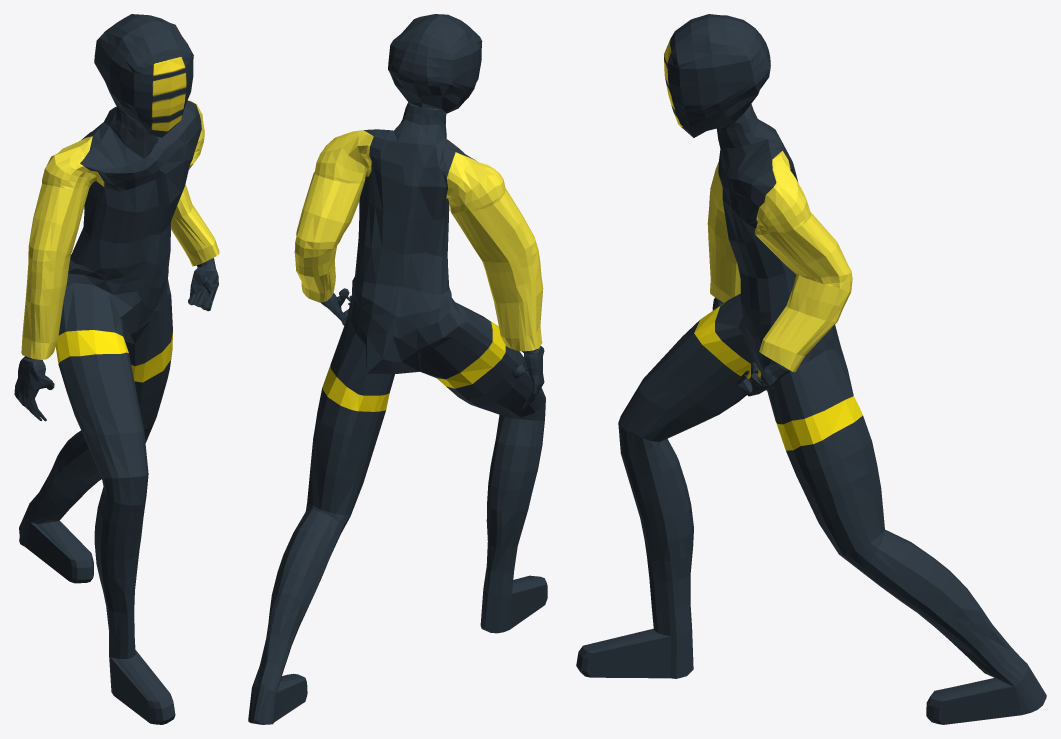
The model's file is Sentry_Stun_Recover_000004.obj.
3 renders of one model, left to right at view 1: azimuth 30°, elevation 25°; view 2: azimuth 150°, elevation 25°; view 3: azimuth 270°, elevation 25°, orthographic. The views are drawn at different scales.
Visible parts, largest first — view 1: Cube; view 2: Cube; view 3: Cube.
Boxes of the visible parts, box(x1,y1,x2,y2) form: Cube: box(14, 14, 219, 724); Cube: box(248, 14, 547, 724); Cube: box(576, 14, 1046, 724).
Bounding box in the file's own units: 1.29 × 3.55 × 2.23.
